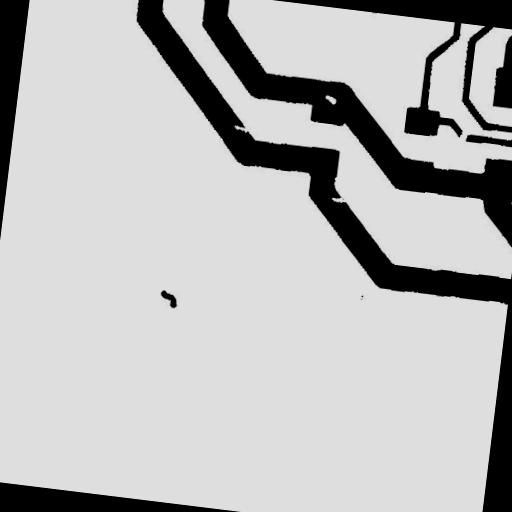copper: (150, 281, 186, 316)
mousebite: (322, 186, 355, 212), (224, 116, 256, 141)
open: (450, 122, 476, 150)
pin-hole: (316, 86, 345, 114)
